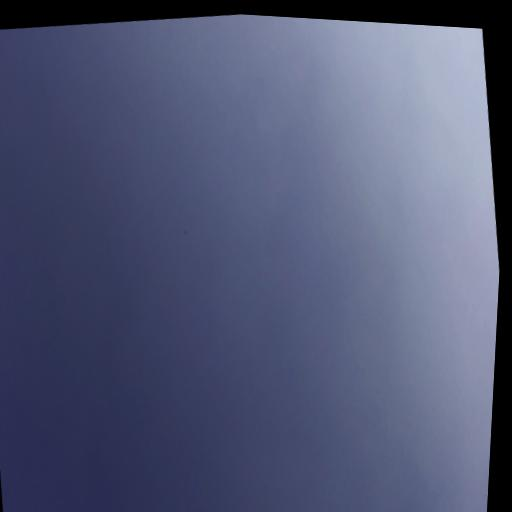drones: (183, 229, 188, 235)
